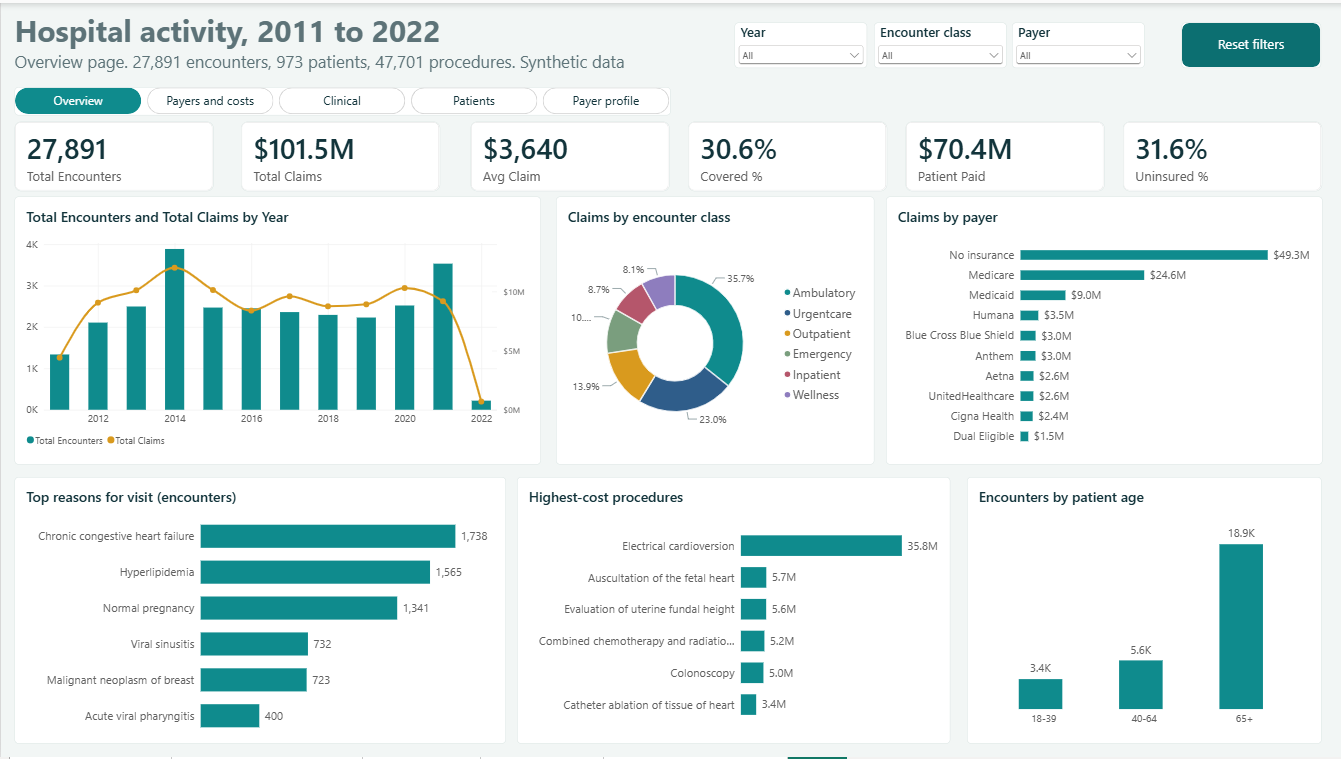

Layout of this report page (visuals, bound fields, positions):
{"tool":"powerbi","page":{"name":"Overview","canvas":[1920,1080],"ordinal":0},"visuals":[{"type":"cardVisual","fields":{"Data":["_Measures.Total Encounters (card)"]},"box":[19.1,169.4,285,100],"z":0},{"type":"cardVisual","fields":{"Data":["_Measures.Total Claims"]},"box":[343.6,169.4,285,100],"z":1000},{"type":"cardVisual","fields":{"Data":["_Measures.Avg Claim (card)"]},"box":[672.8,169.4,285,100],"z":2000},{"type":"cardVisual","fields":{"Data":["_Measures.Covered %"]},"box":[983,169.4,285,100],"z":3000},{"type":"cardVisual","fields":{"Data":["_Measures.Patient Paid"]},"box":[1295.6,169.4,285,100],"z":4000},{"type":"cardVisual","fields":{"Data":["_Measures.Uninsured %"]},"box":[1608.1,169.4,285,100],"z":5000},{"type":"lineClusteredColumnComboChart","fields":{"Category":["DimDate.Year"],"Y":["_Measures.Total Encounters"],"Y2":["_Measures.Total Claims"]},"box":[19.1,276.8,753.9,384.1],"z":6000},{"type":"donutChart","title":"Claims by encounter class","fields":{"Category":["FactEncounters.EncounterClass"],"Y":["_Measures.Total Claims"]},"box":[794.5,276.8,455.7,384.1],"z":7000},{"type":"clusteredBarChart","title":"Claims by payer ","fields":{"Category":["DimPayer.PayerName"],"Y":["_Measures.Total Claims"]},"box":[1266.9,276.8,625.1,384.1],"z":8000},{"type":"columnChart","title":"Encounters by patient age","fields":{"Category":["FactEncounters.AgeBand"],"Y":["_Measures.Total Encounters"]},"box":[1383.8,680,508.2,381.7],"z":9000},{"type":"clusteredBarChart","title":"Highest-cost procedures","fields":{"Category":["FactProcedures.ProcedureName"],"Y":["Sum(FactProcedures.BaseCost)"]},"box":[739.6,680,620.3,381.7],"z":10000},{"type":"clusteredBarChart","title":"Top reasons for visit (encounters)","fields":{"Category":["FactEncounters.ReasonDescription"],"Y":["_Measures.Total Encounters"]},"box":[19.1,680,703.8,381.7],"z":11000},{"type":"textbox","box":[19.1,0,1872.9,119.3],"z":12000},{"type":"slicer","title":"Year","fields":{"Values":["DimDate.Year"]},"box":[1049.8,28.6,190,65],"z":13000},{"type":"slicer","title":"Year","fields":{"Values":["DimPayer.PayerName"]},"box":[1448.3,28.6,190,65],"z":14000},{"type":"slicer","title":"Year","fields":{"Values":["FactEncounters.EncounterClass"]},"box":[1250.2,28.6,190,65],"z":15000},{"type":"pageNavigator","box":[19.1,119.3,940.1,40.6],"z":16000},{"type":"actionButton","box":[1691.6,28.6,200,65],"z":17000}]}

Visuals, with their boxes in screenshot pixels (x1, y1, x2, y2), scaled from the page's 1920x1080 canvas onto the 1341x759 screenshot:
cardVisual - _Measures.Total Encounters (card): bbox=[13, 119, 212, 189]
cardVisual - _Measures.Total Claims: bbox=[240, 119, 439, 189]
cardVisual - _Measures.Avg Claim (card): bbox=[470, 119, 669, 189]
cardVisual - _Measures.Covered %: bbox=[687, 119, 886, 189]
cardVisual - _Measures.Patient Paid: bbox=[905, 119, 1104, 189]
cardVisual - _Measures.Uninsured %: bbox=[1123, 119, 1322, 189]
lineClusteredColumnComboChart - DimDate.Year x _Measures.Total Encounters: bbox=[13, 195, 540, 464]
"Claims by encounter class" donutChart: bbox=[555, 195, 873, 464]
"Claims by payer " clusteredBarChart: bbox=[885, 195, 1321, 464]
"Encounters by patient age" columnChart: bbox=[966, 478, 1321, 746]
"Highest-cost procedures" clusteredBarChart: bbox=[517, 478, 950, 746]
"Top reasons for visit (encounters)" clusteredBarChart: bbox=[13, 478, 505, 746]
textbox: bbox=[13, 0, 1321, 84]
"Year" slicer: bbox=[733, 20, 866, 66]
"Year" slicer: bbox=[1012, 20, 1144, 66]
"Year" slicer: bbox=[873, 20, 1006, 66]
pageNavigator: bbox=[13, 84, 670, 112]
actionButton: bbox=[1181, 20, 1321, 66]
